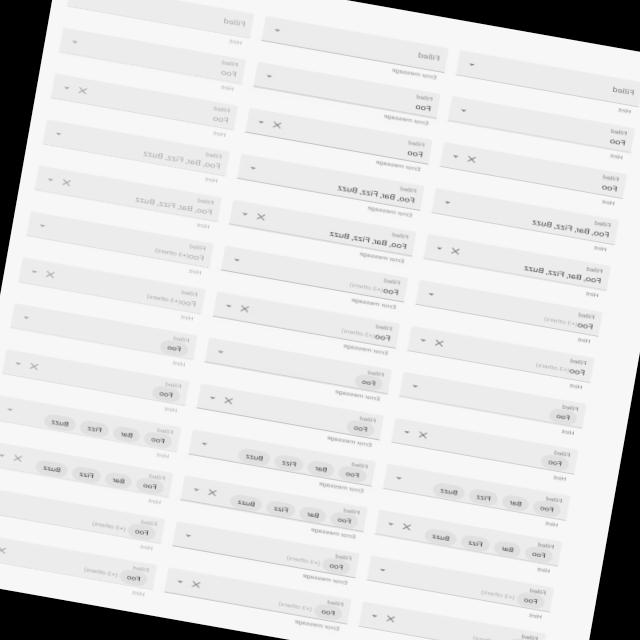VCombobox: (242, 104, 434, 176), (234, 152, 425, 220), (258, 14, 449, 82), (226, 198, 417, 266), (23, 210, 214, 278), (160, 566, 352, 633), (31, 164, 222, 231), (177, 474, 368, 541), (55, 26, 246, 93), (380, 462, 571, 529), (250, 61, 441, 128), (403, 324, 594, 391), (218, 244, 408, 311), (210, 290, 400, 357), (444, 96, 636, 162), (420, 233, 612, 299), (428, 188, 620, 254), (372, 508, 563, 574), (363, 554, 554, 620), (169, 520, 360, 586), (412, 279, 603, 345), (437, 141, 628, 207), (186, 428, 377, 494), (7, 302, 198, 368), (193, 382, 384, 448), (15, 256, 206, 322), (388, 417, 579, 483), (0, 348, 190, 414), (202, 337, 392, 403), (453, 48, 640, 115), (39, 119, 230, 184), (396, 371, 587, 436), (48, 73, 238, 138), (0, 394, 182, 460), (0, 440, 173, 507), (0, 486, 165, 552), (0, 531, 157, 597), (63, 0, 254, 47), (355, 600, 546, 640)
